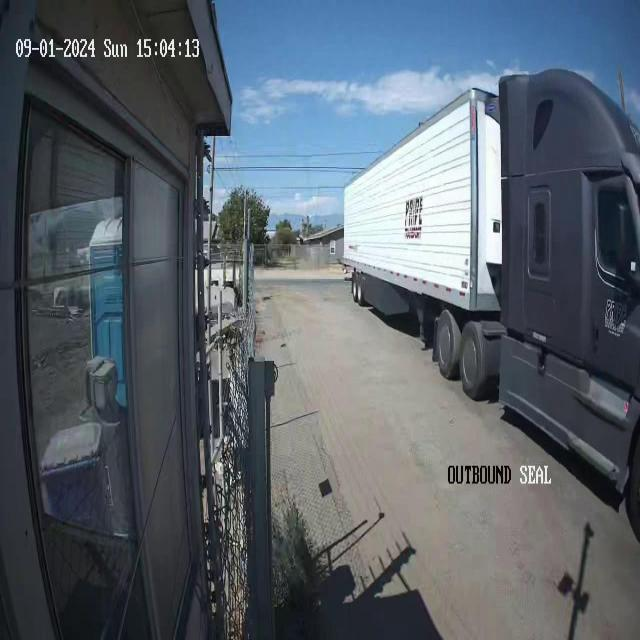TRUCK_CONTAINER: (341, 67, 639, 512)
